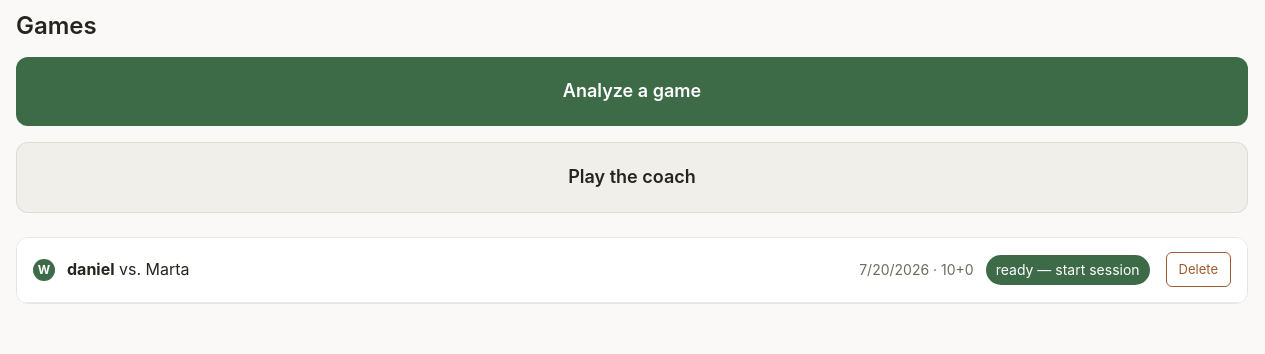
Test: GamesPage (design.md §4.1) › shows an error message if deleting a game fails
expect the text "daniel" is shown: met, box [67,259,114,279]
Click the button "Delete" at [1198, 270], box [1166,252,1231,287]
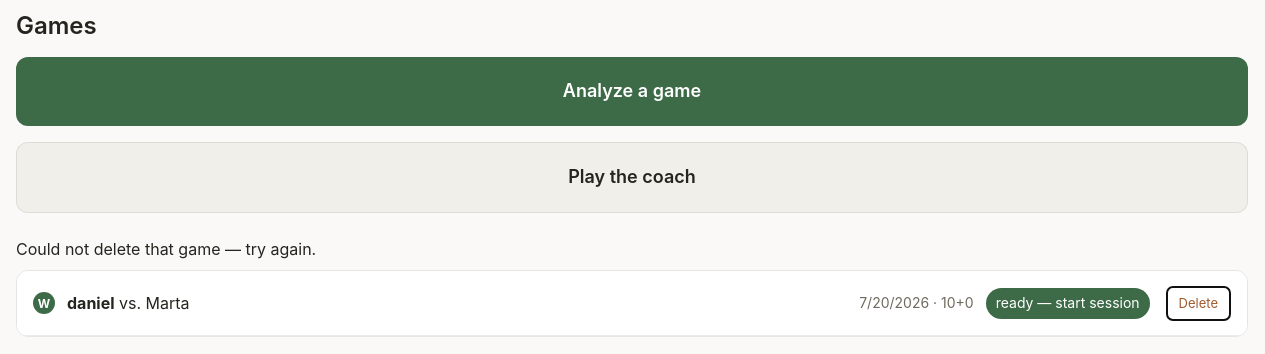
expect the text "daniel" is shown: met, box [67,293,114,313]
expect the text "Could not delete that game — try again." is shown: met, box [16,239,316,259]
